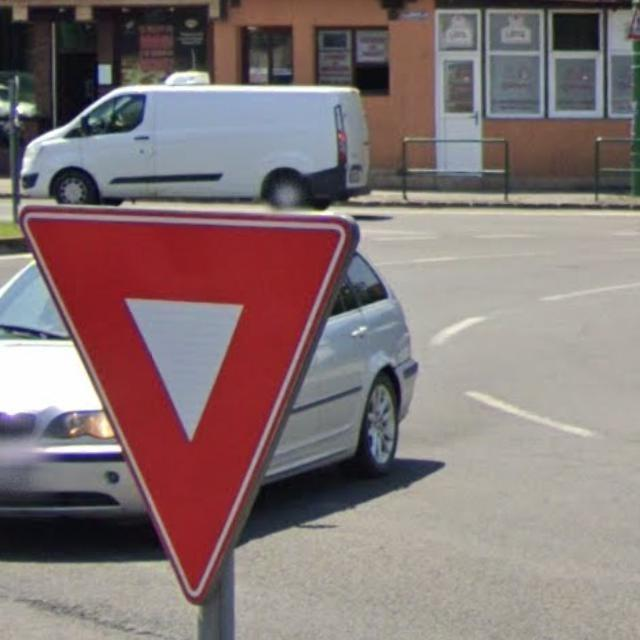prio_give_way: (17, 201, 354, 600)
